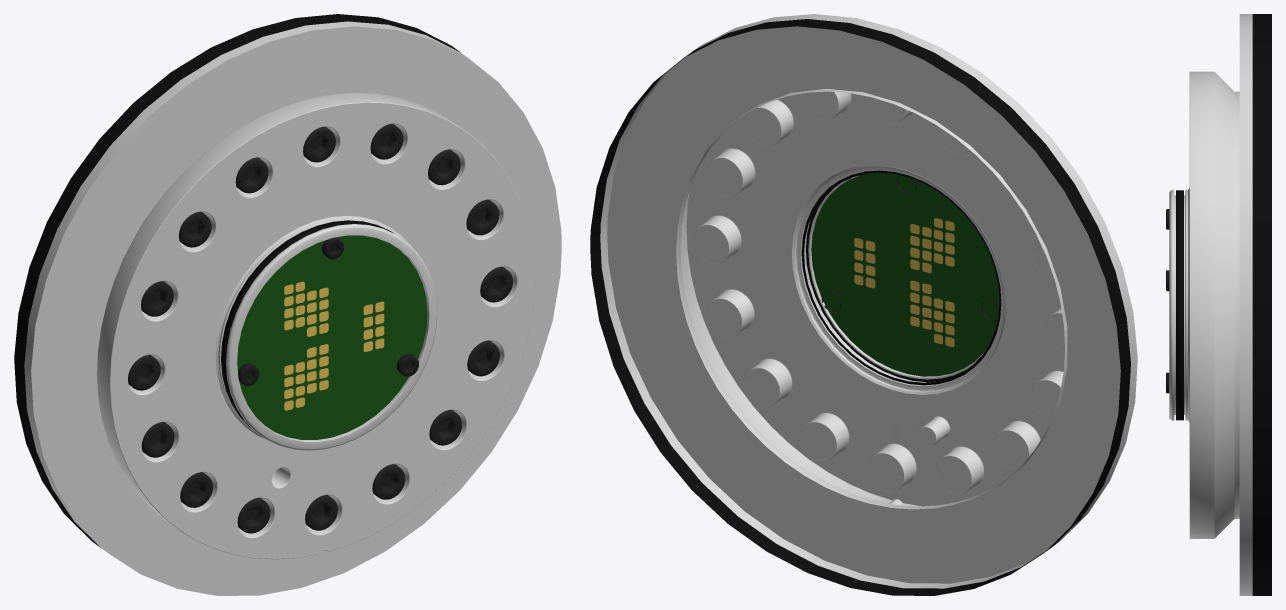
The model's file is D116-legacy-distal.glb.
The picture shows the model from 3 angles, left to right: view 1: azimuth 30°, elevation 25°; view 2: azimuth 150°, elevation 25°; view 3: azimuth 270°, elevation 25°; orthographic projection. The views are drawn at different scales.
Parts seen in each view (by area): view 1: D116-legacy-distal.001; view 2: D116-legacy-distal.001; view 3: D116-legacy-distal.001.
Boxes of the visible parts, x1,y1,x2,y2 form: D116-legacy-distal.001: (14, 14, 561, 595); D116-legacy-distal.001: (590, 14, 1137, 595); D116-legacy-distal.001: (1166, 14, 1271, 595).
Bounding box in the file's own units: 0.116 × 0.1159 × 0.0211.
